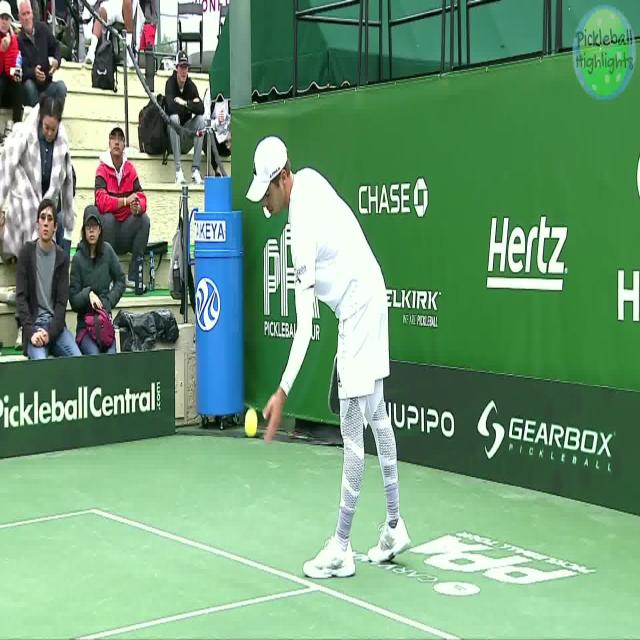ball: (239, 401, 269, 446)
